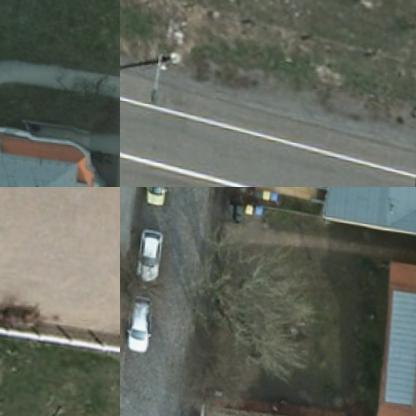car: (128, 224, 164, 286), (120, 294, 152, 353), (137, 187, 166, 212)
